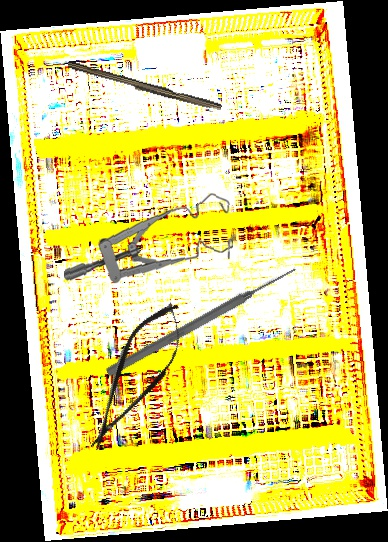Micro Scissor: (71, 292, 200, 462)
Pusher: (104, 262, 300, 380)
Scalpel Handle: (66, 60, 223, 114)
Speculum: (63, 183, 237, 294)
